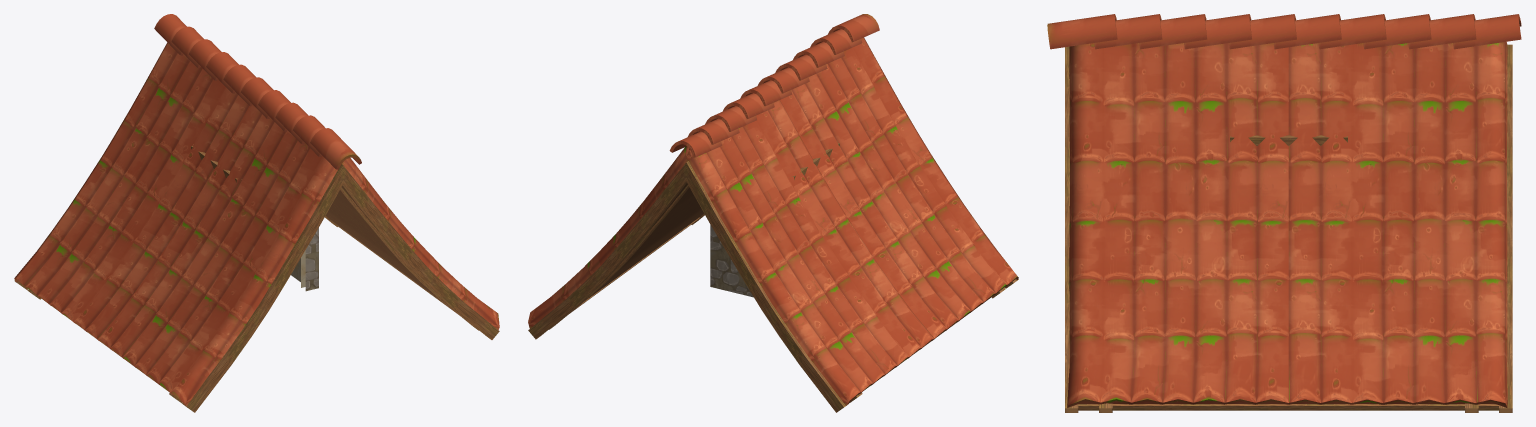
The model's file is keep_generated.glb.
The picture shows the model from 3 angles, left to right: view 1: azimuth 30°, elevation 25°; view 2: azimuth 150°, elevation 25°; view 3: azimuth 270°, elevation 25°; orthographic projection. The views are drawn at different scales.
Visible parts, largest first — view 1: Apptya_AuthoredKeep; view 2: Apptya_AuthoredKeep; view 3: Apptya_AuthoredKeep.
Boxes of the visible parts, x1,y1,x2,y2 form: Apptya_AuthoredKeep: [14, 14, 499, 412]; Apptya_AuthoredKeep: [528, 14, 1018, 412]; Apptya_AuthoredKeep: [1047, 14, 1521, 412].
Size of the model in its own units: 8.25 by 5.67 by 8.03.
Materials: 14 (14 with a texture image).
